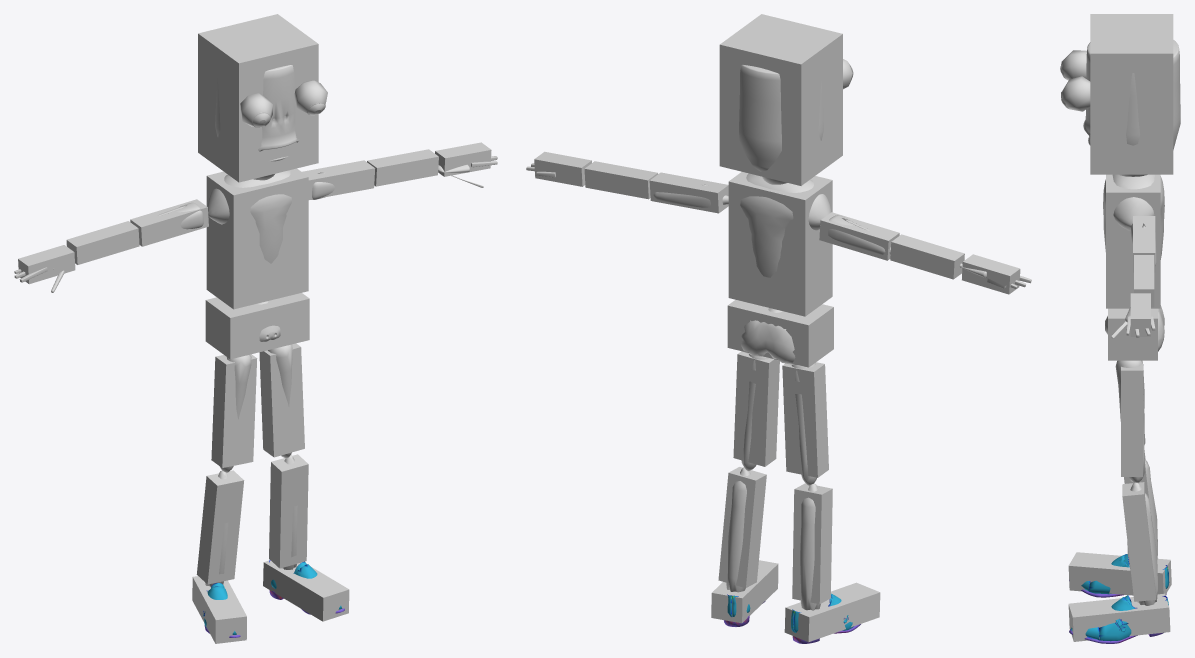
Rendered from ROBOTLOPOLYCOL10.glb.
3 views of the same model, side by side, from view 1: azimuth 30°, elevation 25°; view 2: azimuth 150°, elevation 25°; view 3: azimuth 270°, elevation 25° (orthographic). The views are drawn at different scales.
Parts seen in each view (by area): view 1: RAGDOLL.HEAD, RAGDOLL.UPPERBODY, RAGDOLL.HIPS, RAGDOLL.UPPERLEG.R, RAGDOLL.LOWERLEG.R, RAGDOLL.UPPERLEG.L, RAGDOLL.LOWERLEG.L, RAGDOLL.SHOE.L, UPPERBODY, HEAD, RAGDOLL.SHOE.R, RAGDOLL.LOWERARM.R (+9 smaller); view 2: RAGDOLL.HEAD, RAGDOLL.UPPERBODY, HEAD, RAGDOLL.UPPERLEG.R, RAGDOLL.UPPERLEG.L, RAGDOLL.HIPS, UPPERBODY, RAGDOLL.LOWERLEG.R, RAGDOLL.SHOE.R, RAGDOLL.LOWERLEG.L, RAGDOLL.SHOE.L, RAGDOLL.LOWERARM.R (+11 smaller); view 3: RAGDOLL.HEAD, RAGDOLL.UPPERBODY, RAGDOLL.SHOE.L, RAGDOLL.LOWERLEG.L, RAGDOLL.SHOE.R, RAGDOLL.UPPERLEG.L, RAGDOLL.HIPS, HEAD, UPPERBODY, SHOE.L, RAGDOLL.UPPERARM.L, RAGDOLL.HAND.L (+8 smaller).
Part boxes in pixels (x1,y1,x2,y2): RAGDOLL.HEAD: [198, 14, 318, 182]; RAGDOLL.UPPERBODY: [206, 168, 308, 309]; RAGDOLL.HIPS: [205, 293, 309, 359]; RAGDOLL.UPPERLEG.R: [211, 354, 257, 467]; RAGDOLL.LOWERLEG.R: [196, 470, 244, 584]; RAGDOLL.UPPERLEG.L: [259, 343, 304, 457]; RAGDOLL.LOWERLEG.L: [269, 454, 308, 568]; RAGDOLL.SHOE.L: [263, 560, 349, 621]; UPPERBODY: [207, 170, 291, 263]; HEAD: [215, 65, 299, 180]; RAGDOLL.SHOE.R: [192, 576, 246, 643]; RAGDOLL.LOWERARM.R: [66, 221, 139, 264]; RAGDOLL.HEAD: [719, 14, 842, 185]; RAGDOLL.UPPERBODY: [728, 172, 832, 316]; HEAD: [739, 65, 823, 184]; RAGDOLL.UPPERLEG.R: [782, 362, 828, 477]; RAGDOLL.UPPERLEG.L: [733, 351, 779, 466]; RAGDOLL.HIPS: [727, 299, 833, 367]; UPPERBODY: [740, 173, 831, 277]; RAGDOLL.LOWERLEG.R: [792, 483, 832, 604]; RAGDOLL.SHOE.R: [784, 582, 880, 642]; RAGDOLL.LOWERLEG.L: [718, 467, 766, 588]; RAGDOLL.SHOE.L: [711, 560, 778, 623]; RAGDOLL.LOWERARM.R: [890, 234, 964, 279]; RAGDOLL.HEAD: [1090, 14, 1173, 174]; RAGDOLL.UPPERBODY: [1106, 174, 1160, 308]; RAGDOLL.SHOE.L: [1068, 593, 1170, 641]; RAGDOLL.LOWERLEG.L: [1122, 482, 1156, 601]; RAGDOLL.SHOE.R: [1068, 552, 1171, 595]; RAGDOLL.UPPERLEG.L: [1121, 360, 1142, 476]; RAGDOLL.HIPS: [1108, 308, 1157, 360]; HEAD: [1083, 40, 1180, 176]; UPPERBODY: [1103, 174, 1164, 259]; SHOE.L: [1069, 595, 1168, 643]; RAGDOLL.UPPERARM.L: [1133, 216, 1155, 272]; RAGDOLL.HAND.L: [1130, 293, 1150, 336].
Size of the model in its own units: 1.81 by 2.05 by 0.3849.
